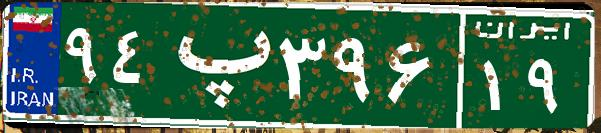1: (475, 38, 525, 113)
3: (273, 28, 330, 110)
4: (110, 28, 158, 105)
6: (385, 28, 445, 110)
9: (330, 28, 385, 110), (57, 26, 110, 107), (525, 38, 570, 115)
پ: (158, 15, 273, 115)
